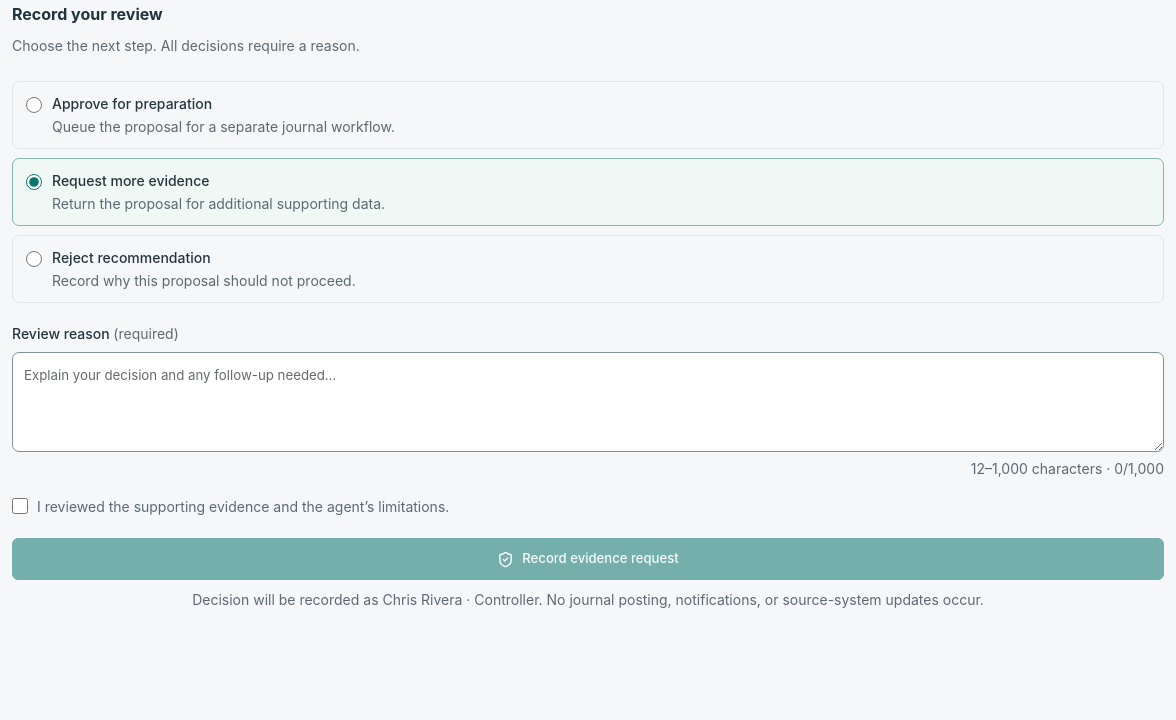
Scenario: submits only after evidence review and a reason are provided
Later steps or results of the test are not shown.
Expected: the button "Record evidence request" is disabled, x1=12 y1=538 x2=1164 y2=580
Type "Confirm source cutoff support" into the text box labelled "Review reason (required)" at (588,402), box x1=12 y1=352 x2=1164 y2=452
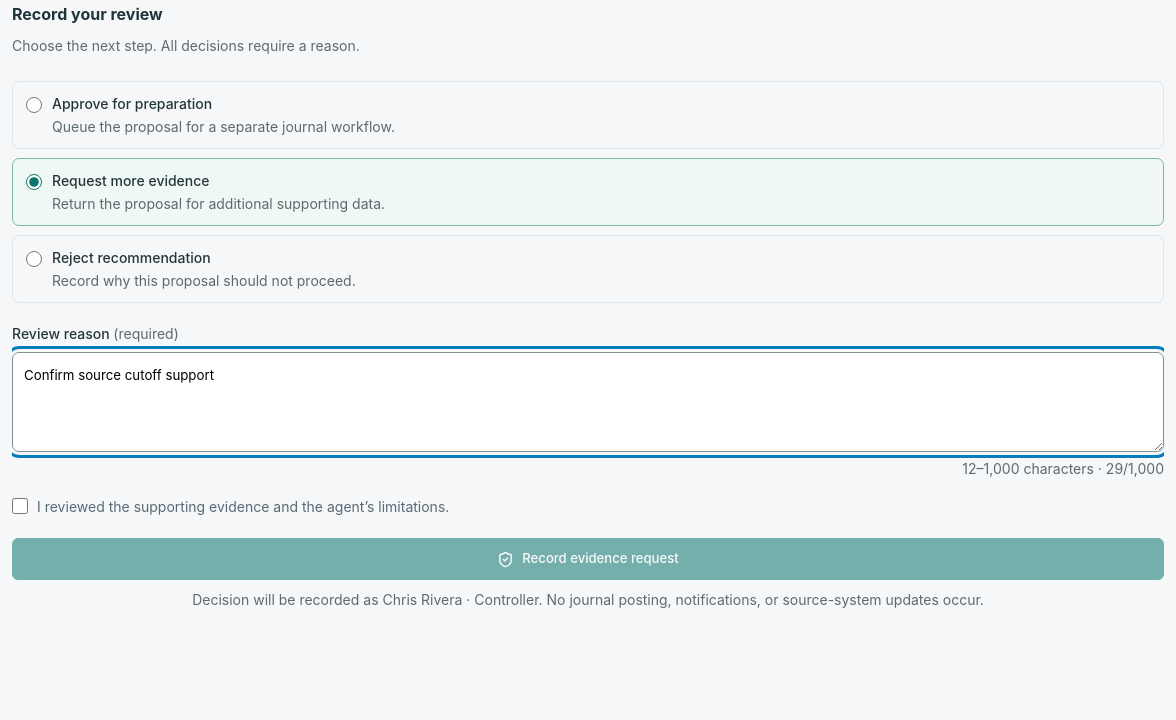
Click the checkbox labelled "I reviewed the supporting evidence" at (20,506), box x1=12 y1=498 x2=28 y2=514
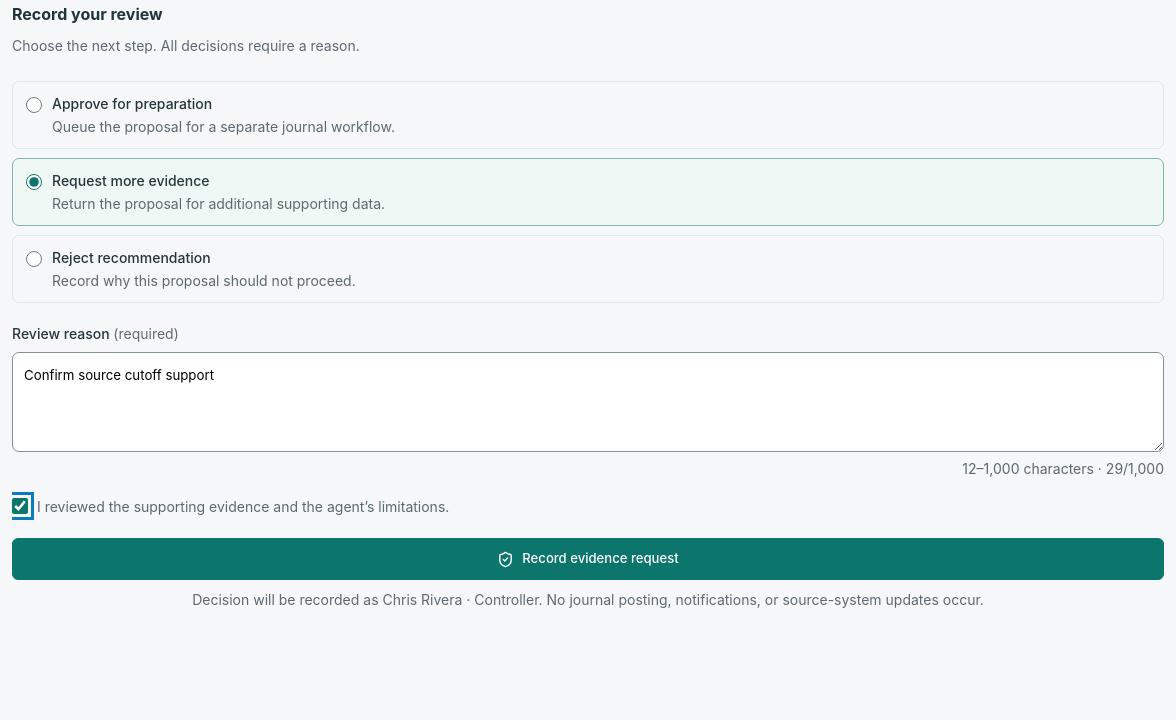
Expected: the button "Record evidence request" is enabled, x1=12 y1=538 x2=1164 y2=580
